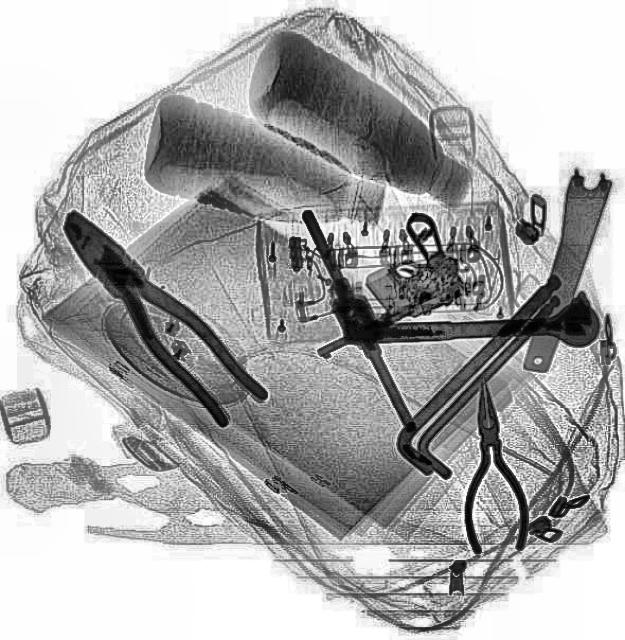Gun: (274, 205, 474, 368)
Pliers: (43, 195, 270, 433), (454, 380, 530, 552)
